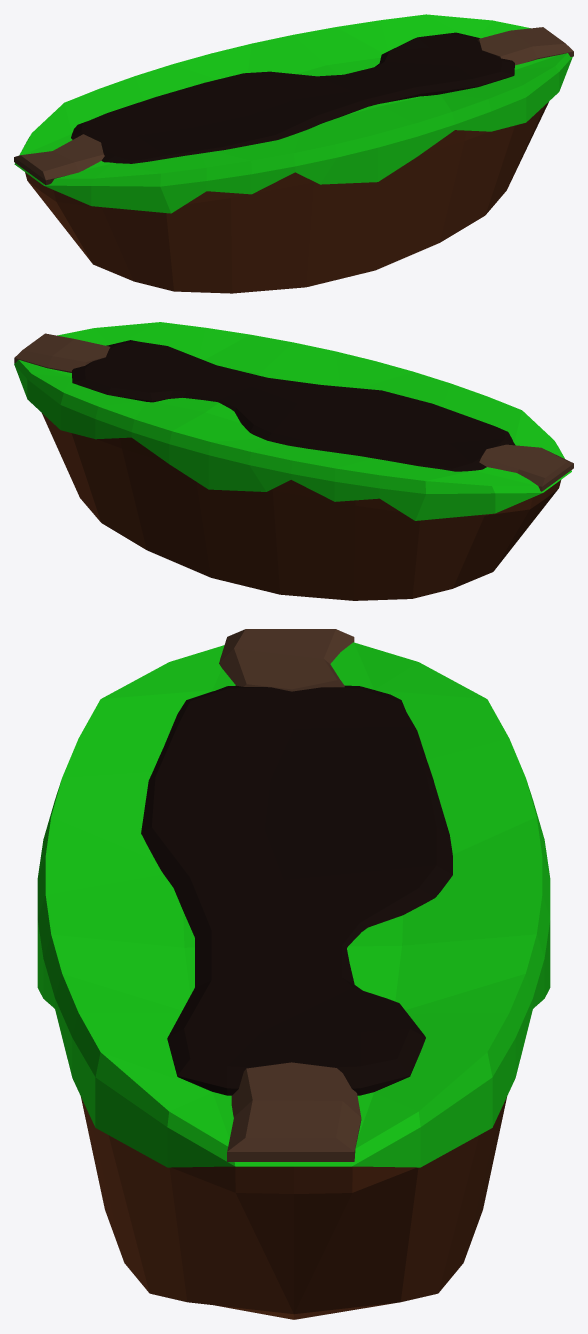
File: block_dirt.fbx
The picture shows the model from 3 angles, top to bottom: view 1: azimuth 30°, elevation 25°; view 2: azimuth 150°, elevation 25°; view 3: azimuth 270°, elevation 25°; orthographic projection. The views are drawn at different scales.
Parts seen in each view (by area): view 1: block_dirt; view 2: block_dirt; view 3: block_dirt.
Part boxes in pixels (box(x1,y1,x2,y2)): block_dirt: box(14, 14, 573, 293); block_dirt: box(14, 322, 573, 600); block_dirt: box(37, 629, 550, 1319).
Size of the model in its own units: 1661 by 488 by 697.
